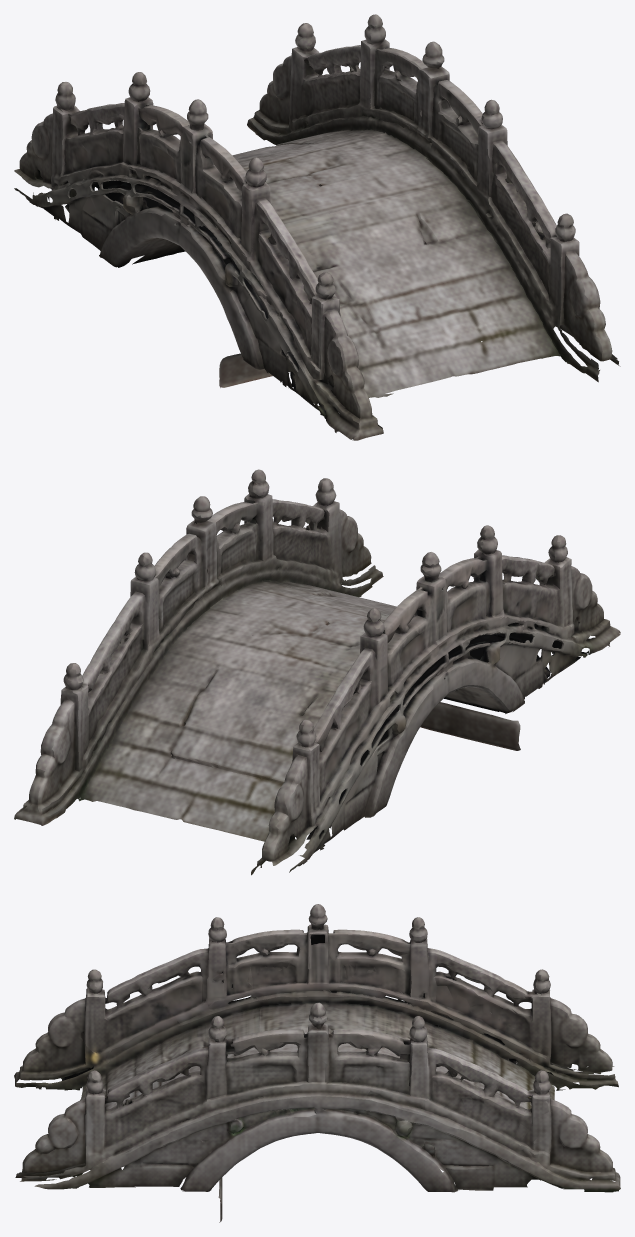
File: ARCH-010-clean.glb
The picture shows the model from 3 angles, top to bottom: view 1: azimuth 30°, elevation 25°; view 2: azimuth 150°, elevation 25°; view 3: azimuth 270°, elevation 25°; orthographic projection. The views are drawn at different scales.
Visible parts, largest first — view 1: world; view 2: world; view 3: world.
Part boxes in pixels (left/top/right/bottom): world: left=14, top=14, right=620, bottom=440; world: left=14, top=469, right=620, bottom=875; world: left=14, top=904, right=620, bottom=1222.
Size of the model in its own units: 0.4453 by 0.3328 by 0.8897.
Materials: 1 (1 with a texture image).
